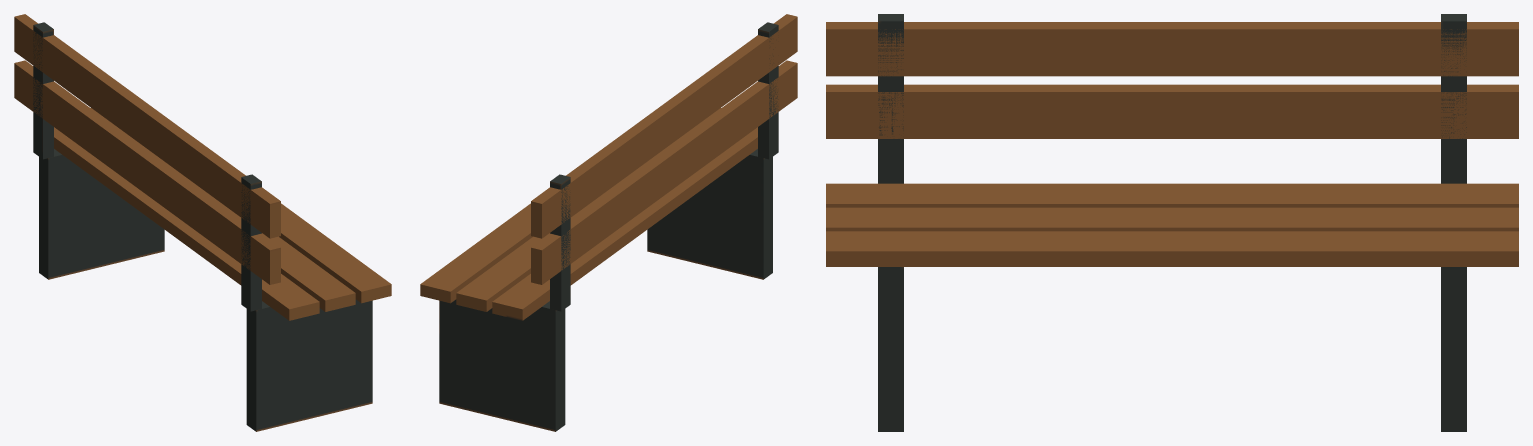
Rendered from lavicka_99914b93.glb.
3 renders of one model, left to right at view 1: azimuth 30°, elevation 25°; view 2: azimuth 150°, elevation 25°; view 3: azimuth 270°, elevation 25°, orthographic. The views are drawn at different scales.
Visible parts, largest first — view 1: dum; view 2: dum; view 3: dum.
Boxes of the visible parts, left/top/right/bottom form: dum: left=14, top=14, right=391, bottom=431; dum: left=420, top=14, right=797, bottom=431; dum: left=826, top=14, right=1518, bottom=431.
Size of the model in its own units: 0.4389 by 0.8578 by 1.6.
Materials: 1 (1 with a texture image).
